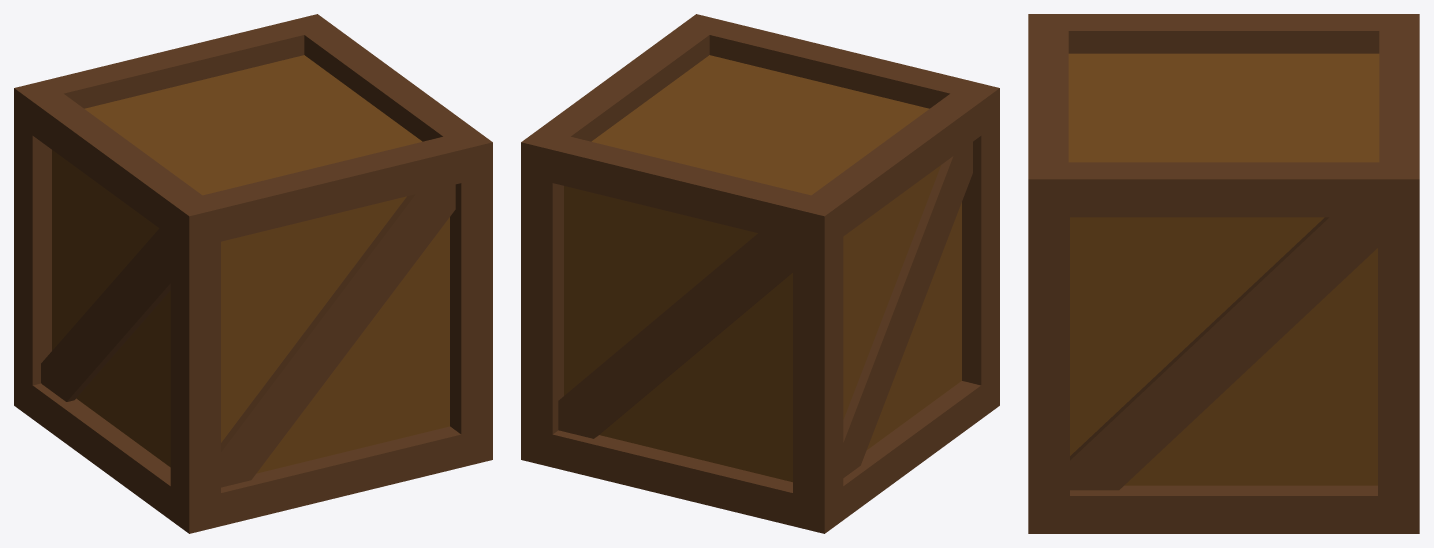
File: Crate.fbx
3 views of the same model, side by side, from view 1: azimuth 30°, elevation 25°; view 2: azimuth 150°, elevation 25°; view 3: azimuth 270°, elevation 25° (orthographic). The views are drawn at different scales.
Parts seen in each view (by area): view 1: Crate; view 2: Crate; view 3: Crate.
Part boxes in pixels (x1,y1,x2,y2): Crate: (14, 14, 492, 533); Crate: (521, 14, 999, 533); Crate: (1028, 14, 1419, 533).
Size of the model in its own units: 132 by 132 by 132.
